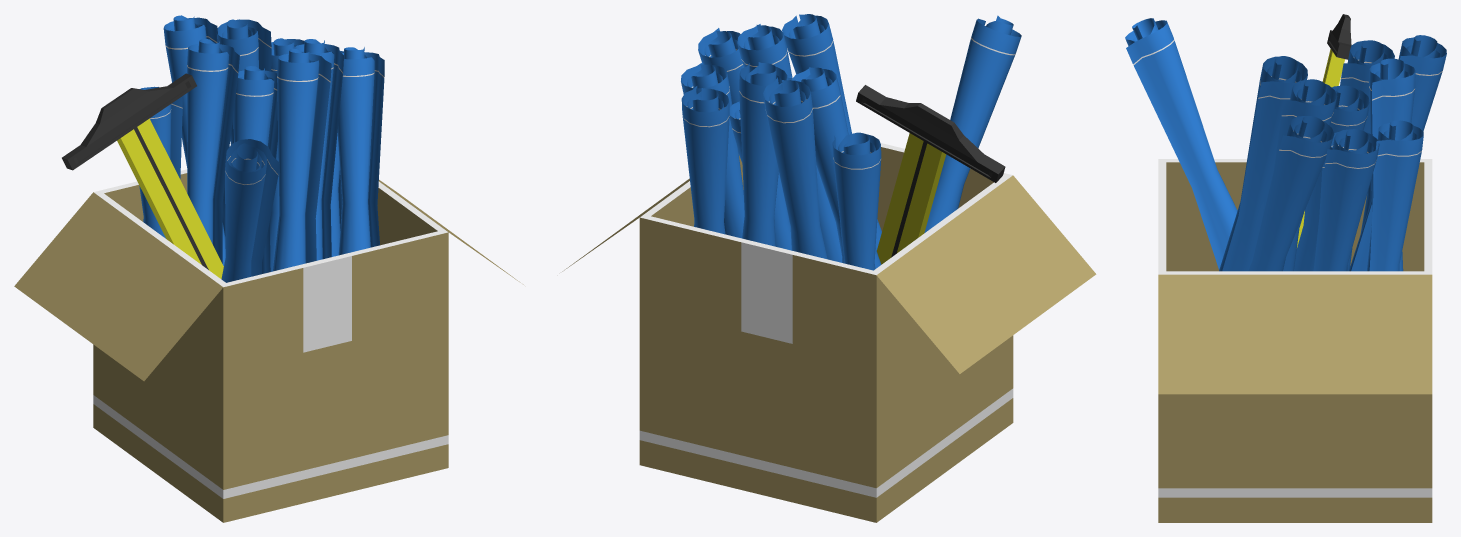
Rendered from BluePrintBox.fbx.
3 renders of one model, left to right at view 1: azimuth 30°, elevation 25°; view 2: azimuth 150°, elevation 25°; view 3: azimuth 270°, elevation 25°, orthographic. The views are drawn at different scales.
Parts seen in each view (by area): view 1: Spiral.002; view 2: Spiral.002; view 3: Spiral.002.
Part boxes in pixels (x1,y1,x2,y2): Spiral.002: (14,15,523,522); Spiral.002: (562,14,1096,522); Spiral.002: (1125,14,1446,522).
Size of the model in its own units: 1.2 by 0.8301 by 1.19.
